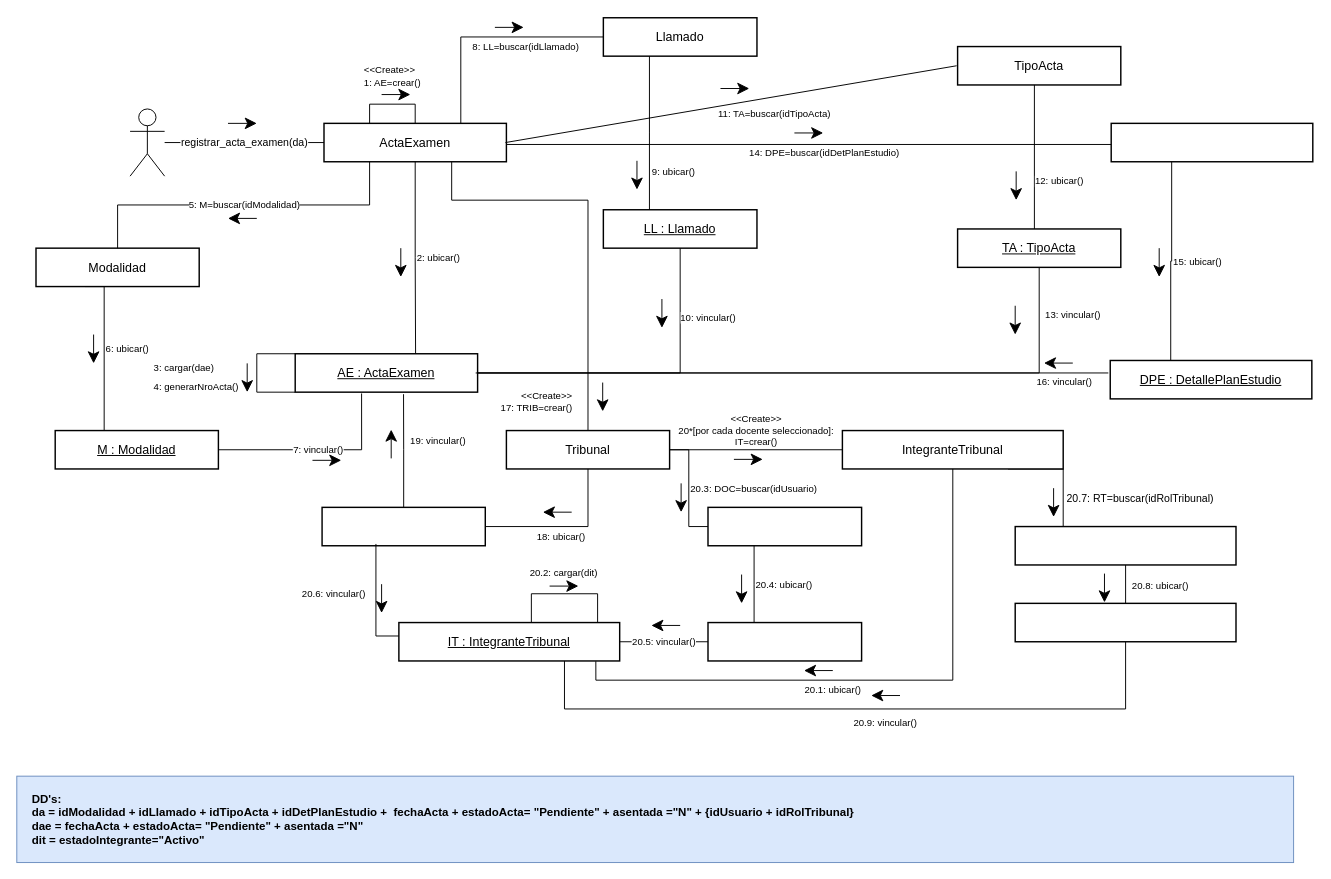
Some shapes in this 1331 by 879 pixel diagram are drawn without their labels. Each missing label, with the centre of its shape:
"Coordinador de Carrera" goes at (147,142).
"DetallePlanEstudio" goes at (1211,142).
"DOC : Docente" goes at (784,641).
"Docente" goes at (784,526).
"RolTribunal" goes at (1125,545).
"RT: RolTribunal" goes at (1125,622).
"TRIB : Tribunal" goes at (403,526).
